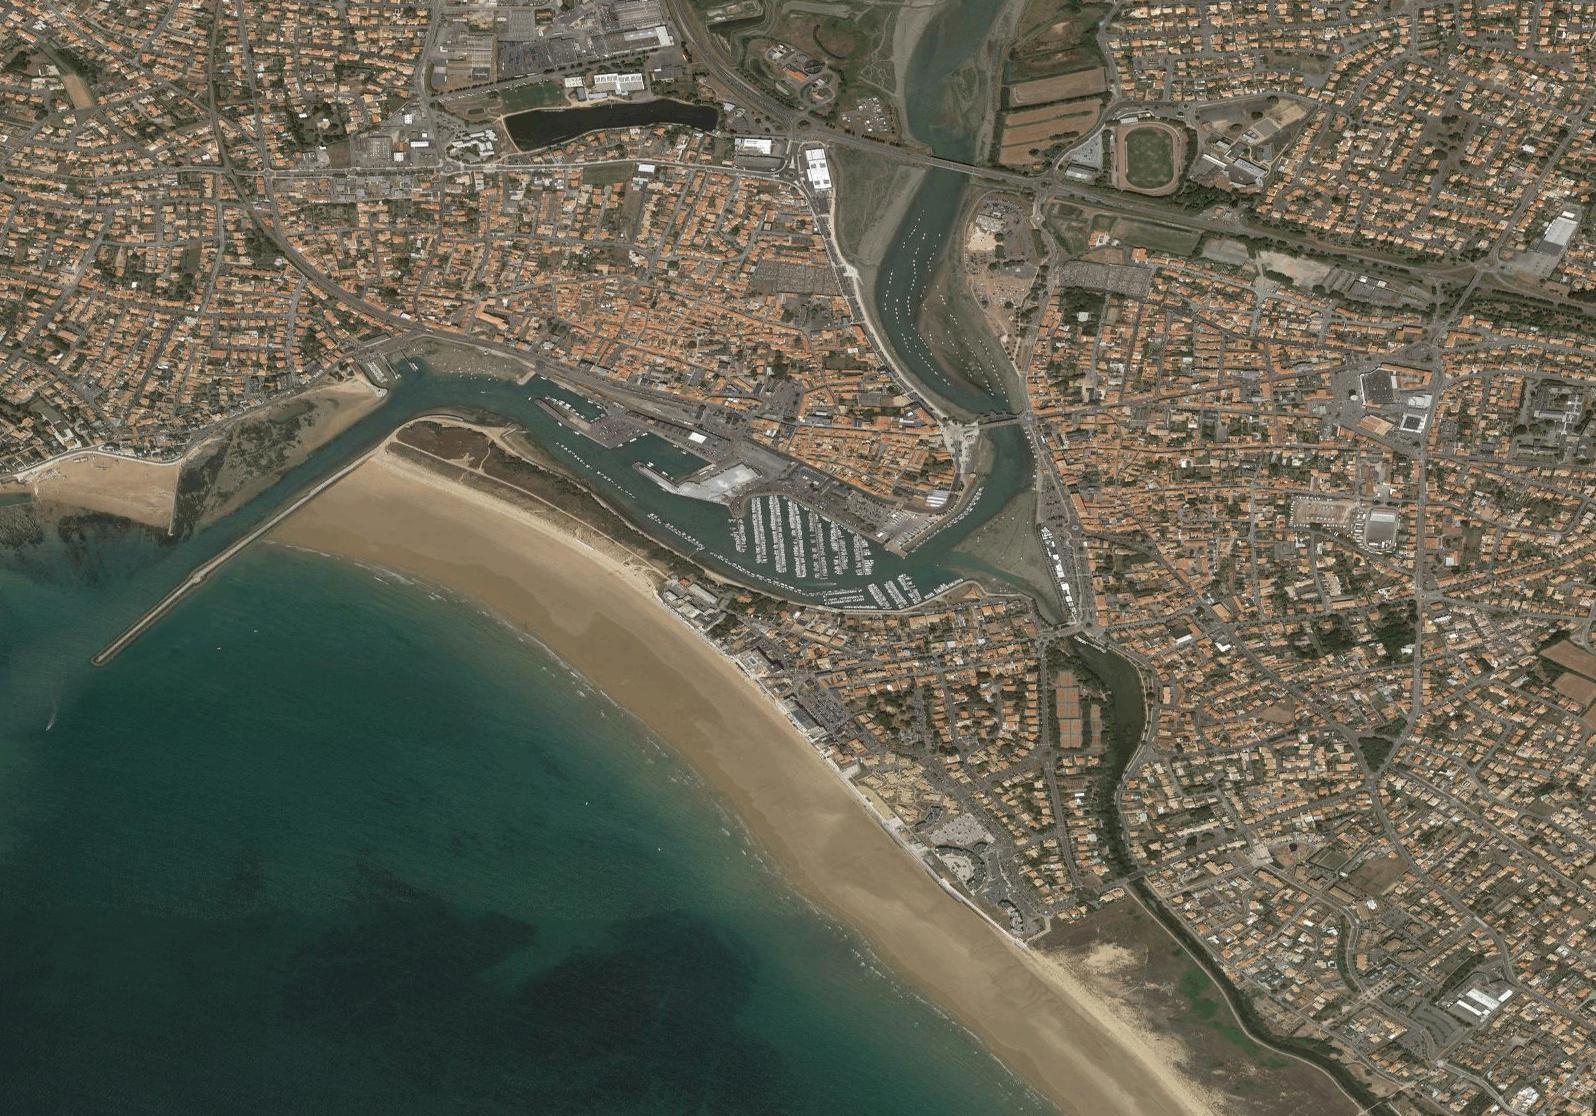bridge: (916, 150, 976, 175), (984, 412, 1021, 433)
harbor: (369, 325, 944, 767)
motorway: (674, 4, 781, 113), (781, 109, 912, 167)
